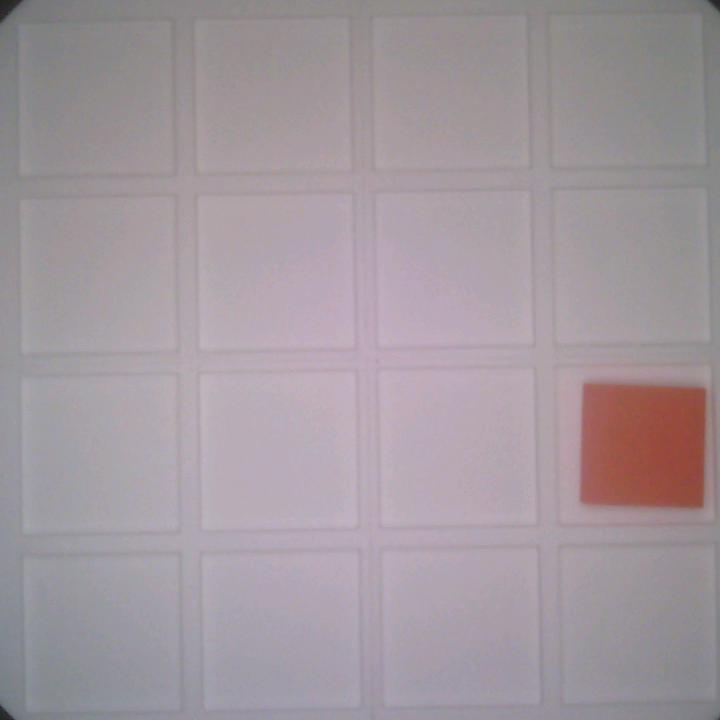Orange square: (575, 376, 707, 510)
